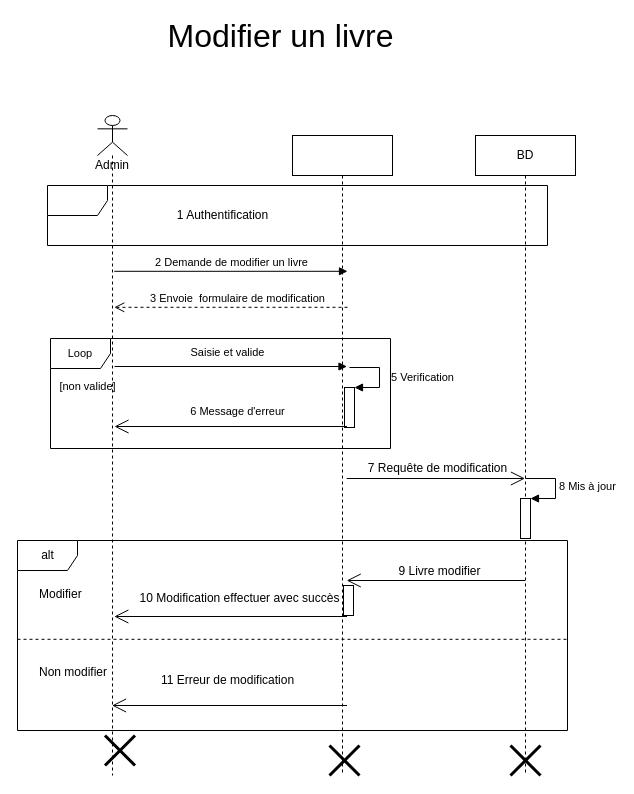
The diagram is 634 pixels wide and 794 high, and some of its shapes have lost their labels. Each missing label, with the box of its shape:
Ref: (46, 184, 548, 246)
Système: (292, 134, 392, 776)
